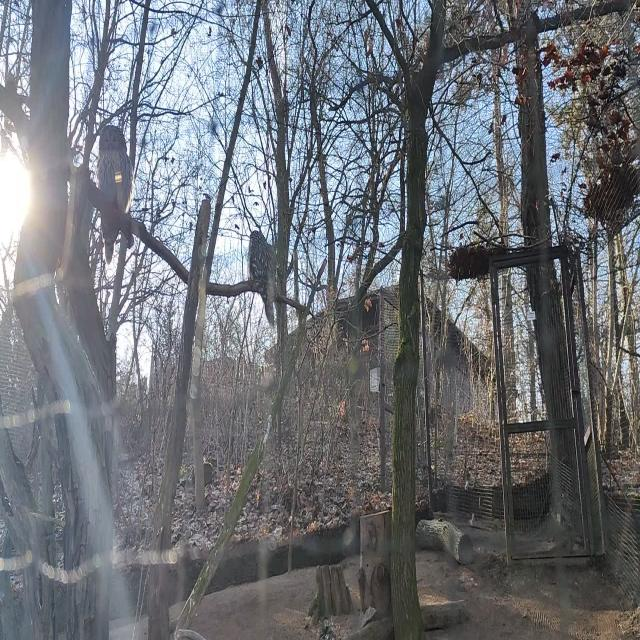bird: (96, 125, 134, 265), (248, 230, 279, 331)
